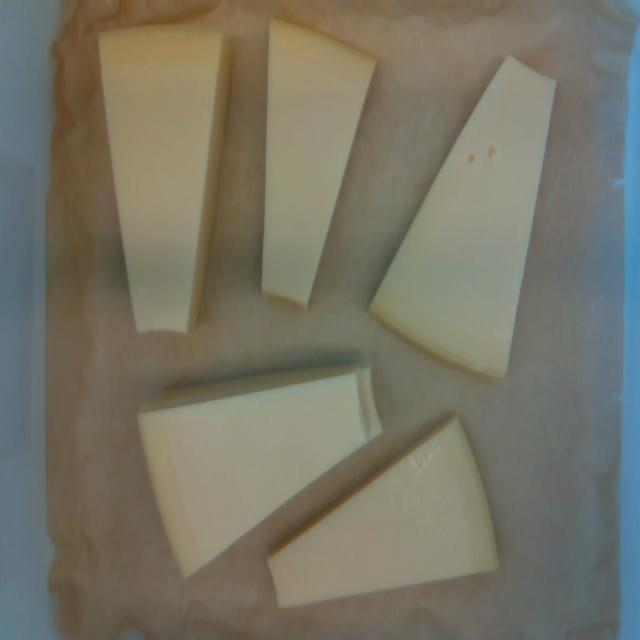Cheese: (370, 60, 553, 375), (136, 375, 366, 581), (268, 419, 497, 605), (99, 27, 223, 333), (262, 21, 374, 305)
